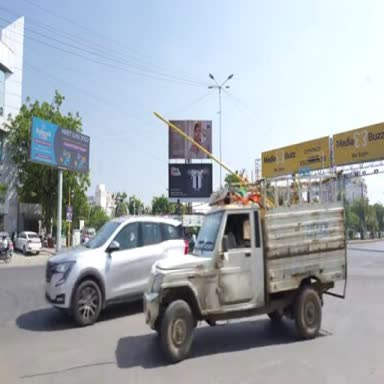Car: (45, 217, 188, 326), (14, 232, 41, 256), (0, 231, 14, 254)
